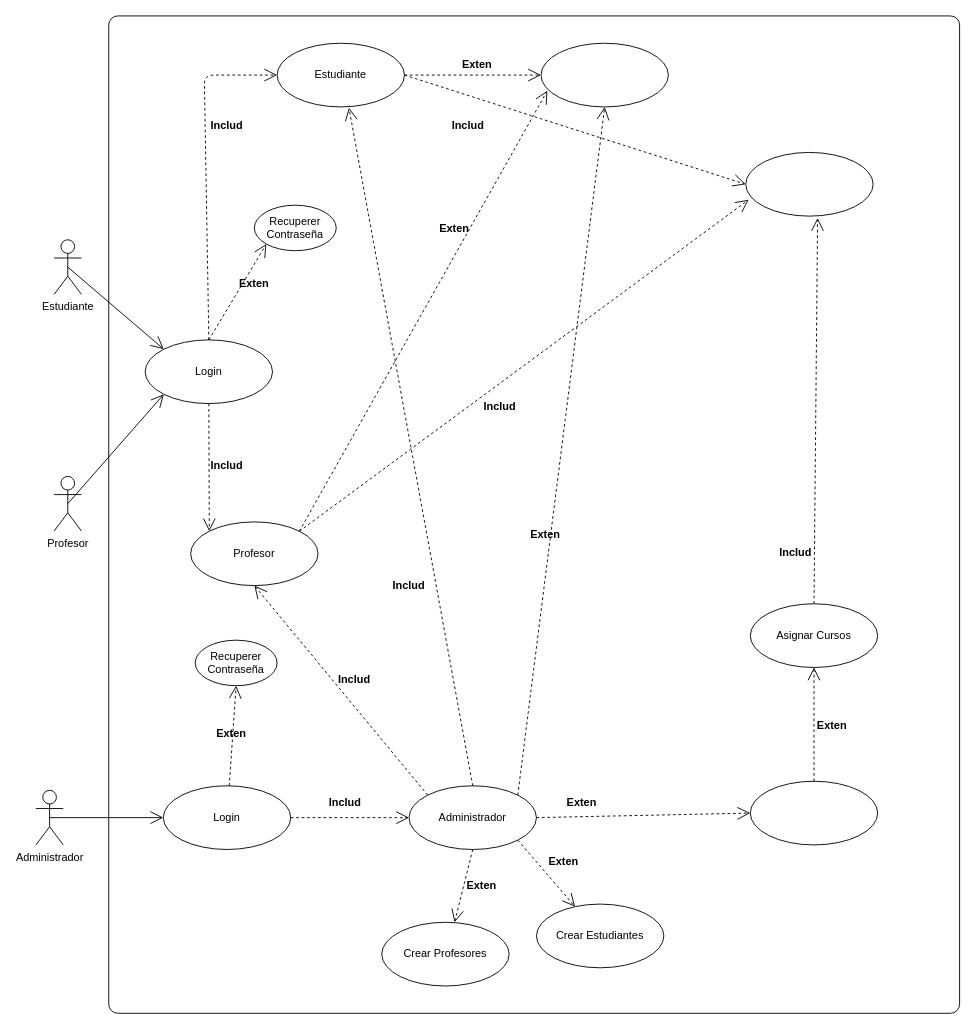
The diagram is 976 pixels wide and 1029 high, and some of its shapes have lost their labels. The shapes that lost their labels are listed below. From the top down, each one's centre as x and y in pixels, then its label:
At (604,74): "Calificaciones".
At (809,184): "Curso".
At (813,812): "Crear Cursos".
